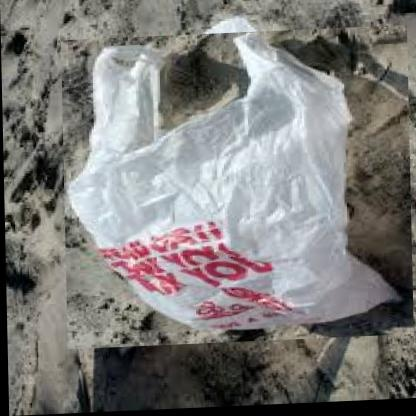trash: (69, 16, 400, 334)
